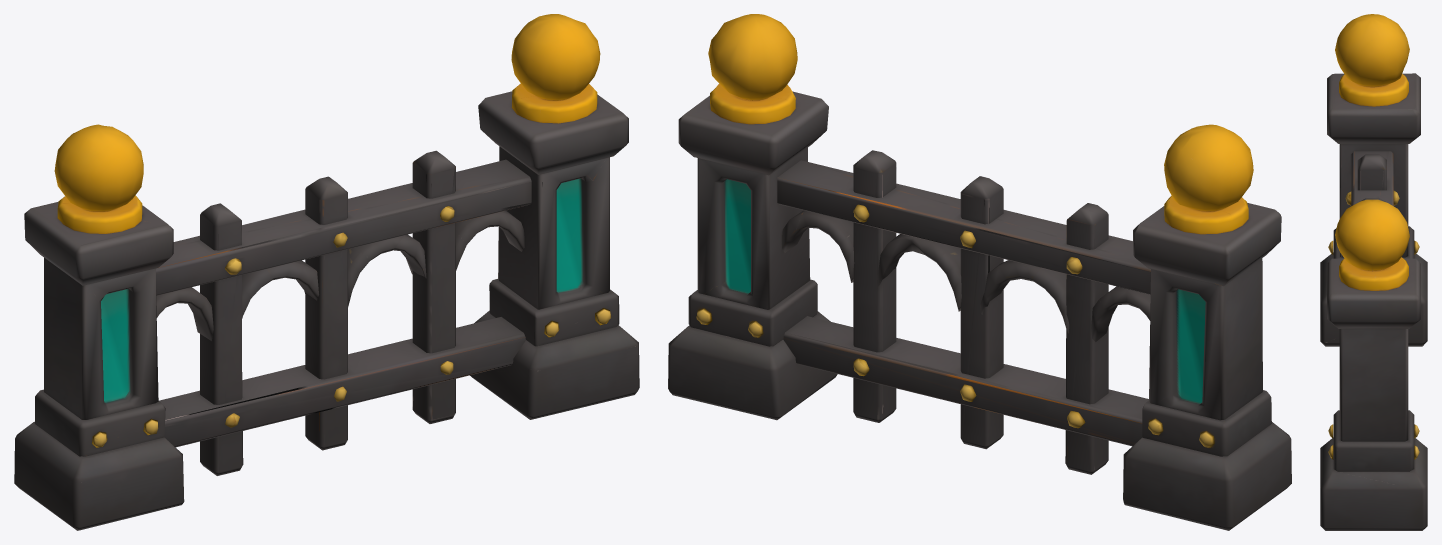
File: fence_iron.glb
3 views of the same model, side by side, from view 1: azimuth 30°, elevation 25°; view 2: azimuth 150°, elevation 25°; view 3: azimuth 270°, elevation 25° (orthographic). The views are drawn at different scales.
Parts seen in each view (by area): view 1: fence_iron; view 2: fence_iron; view 3: fence_iron.
Part boxes in pixels (bbox=[...]): fence_iron: bbox=[14, 14, 639, 530]; fence_iron: bbox=[668, 14, 1291, 530]; fence_iron: bbox=[1320, 14, 1427, 530].
Bounding box in the file's own units: 0.6782 × 0.4214 × 0.1333.
1 material, 1 textured.
